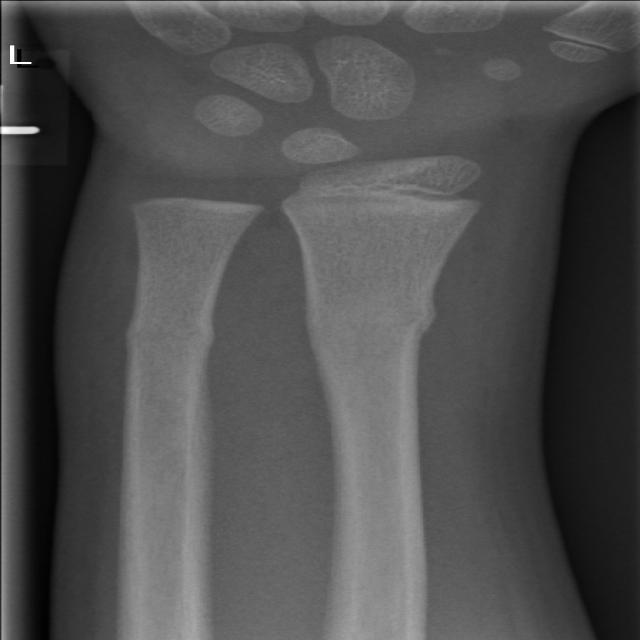radius fracture: (280, 237, 505, 406)
ulna fracture: (87, 248, 248, 443)
